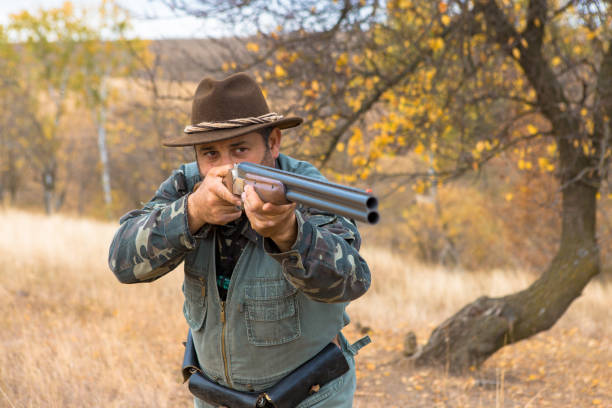gun: (193, 160, 380, 226)
